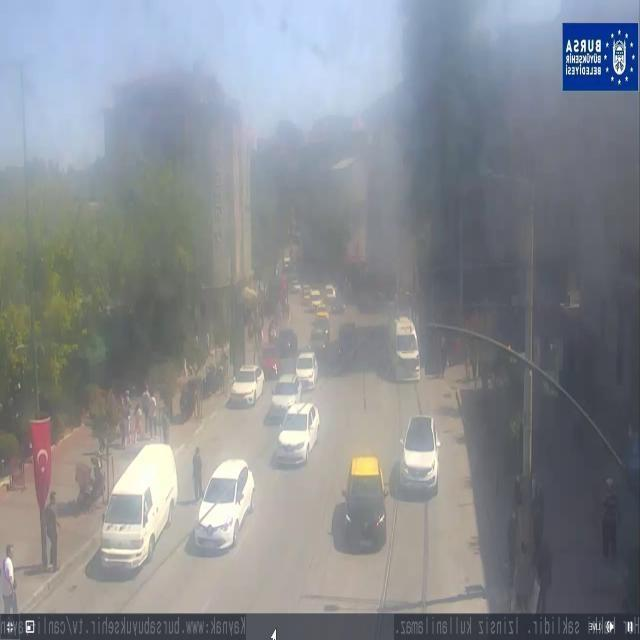Car: (193, 456, 254, 552), (343, 457, 388, 545), (398, 416, 440, 493), (275, 402, 322, 464), (266, 374, 302, 420), (230, 364, 266, 407), (294, 352, 318, 389), (309, 316, 332, 354), (310, 290, 322, 308), (325, 285, 336, 301)
Van: (96, 443, 177, 571), (391, 317, 421, 381)
